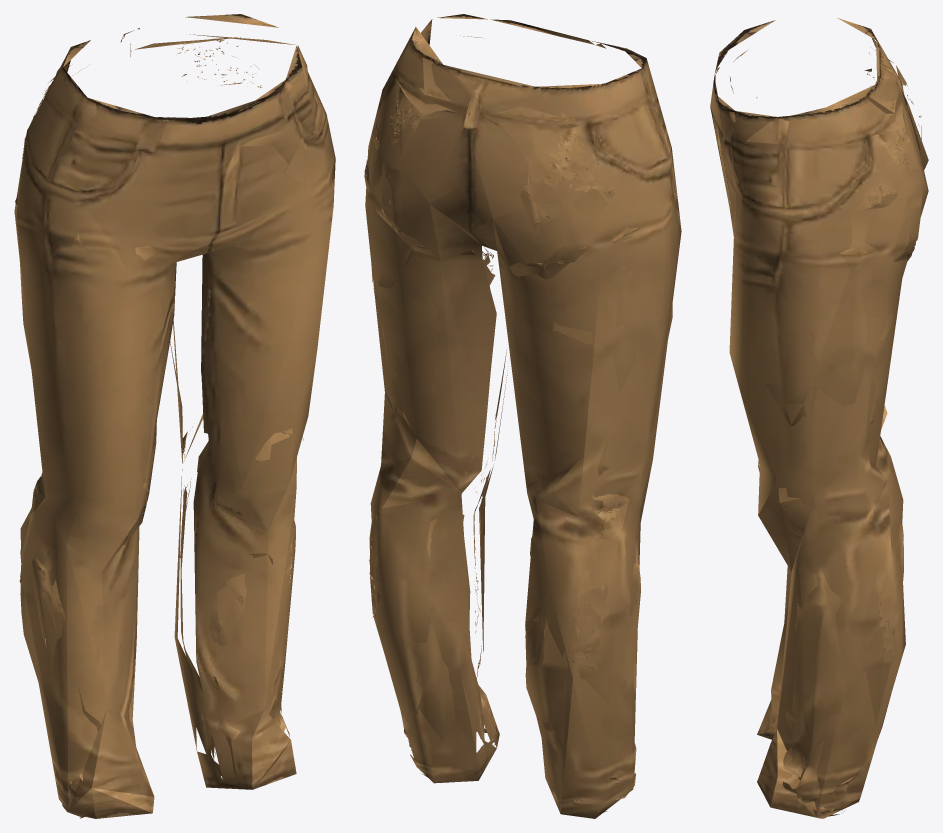
Rendered from assassin_f_trousers.glb.
3 renders of one model, left to right at view 1: azimuth 30°, elevation 25°; view 2: azimuth 150°, elevation 25°; view 3: azimuth 270°, elevation 25°, orthographic. The views are drawn at different scales.
Visible parts, largest first — view 1: lo; view 2: lo; view 3: lo.
Part boxes in pixels (x1,y1,x2,y2): lo: (14, 14, 335, 818); lo: (364, 14, 681, 818); lo: (710, 18, 928, 818).
Size of the model in its own units: 0.3903 by 0.93 by 0.2574.
Materials: 1 (1 with a texture image).
